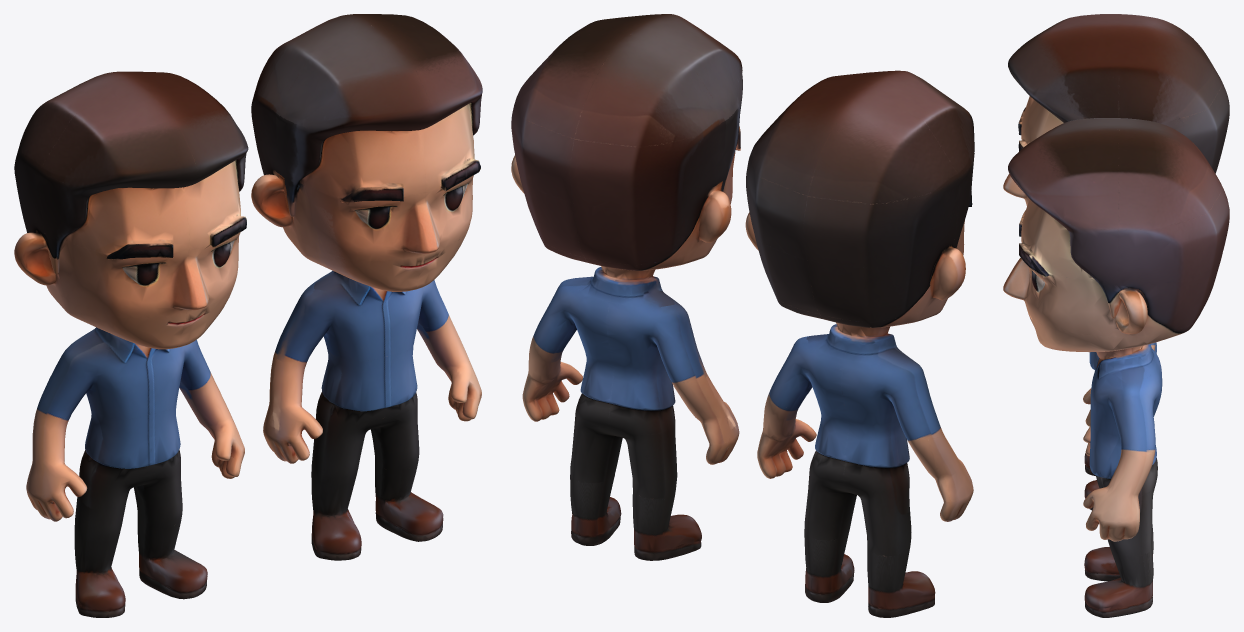
Rendered from hitem3d-avatar-optimized.glb.
The picture shows the model from 3 angles, left to right: view 1: azimuth 30°, elevation 25°; view 2: azimuth 150°, elevation 25°; view 3: azimuth 270°, elevation 25°; orthographic projection. The views are drawn at different scales.
Visible parts, largest first — view 1: tmpprq9932uobj; view 2: tmpprq9932uobj; view 3: tmpprq9932uobj.
Boxes of the visible parts, x1,y1,x2,y2 form: tmpprq9932uobj: (14,14,482,617); tmpprq9932uobj: (511,14,974,617); tmpprq9932uobj: (1003,14,1229,617).
Size of the model in its own units: 0.9334 by 0.9999 by 0.4447.
1 material, 1 textured.
